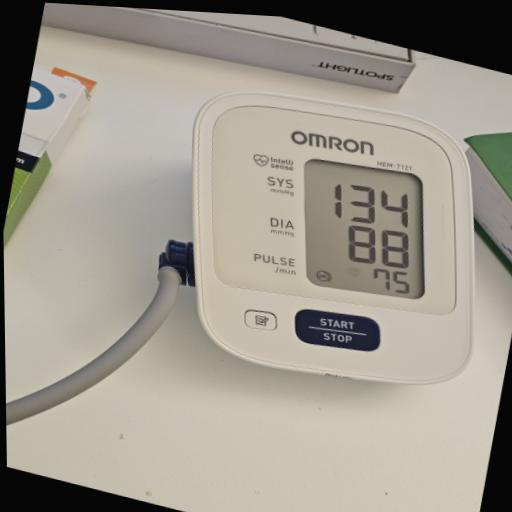blood pressure monitor: (143, 58, 512, 420)
